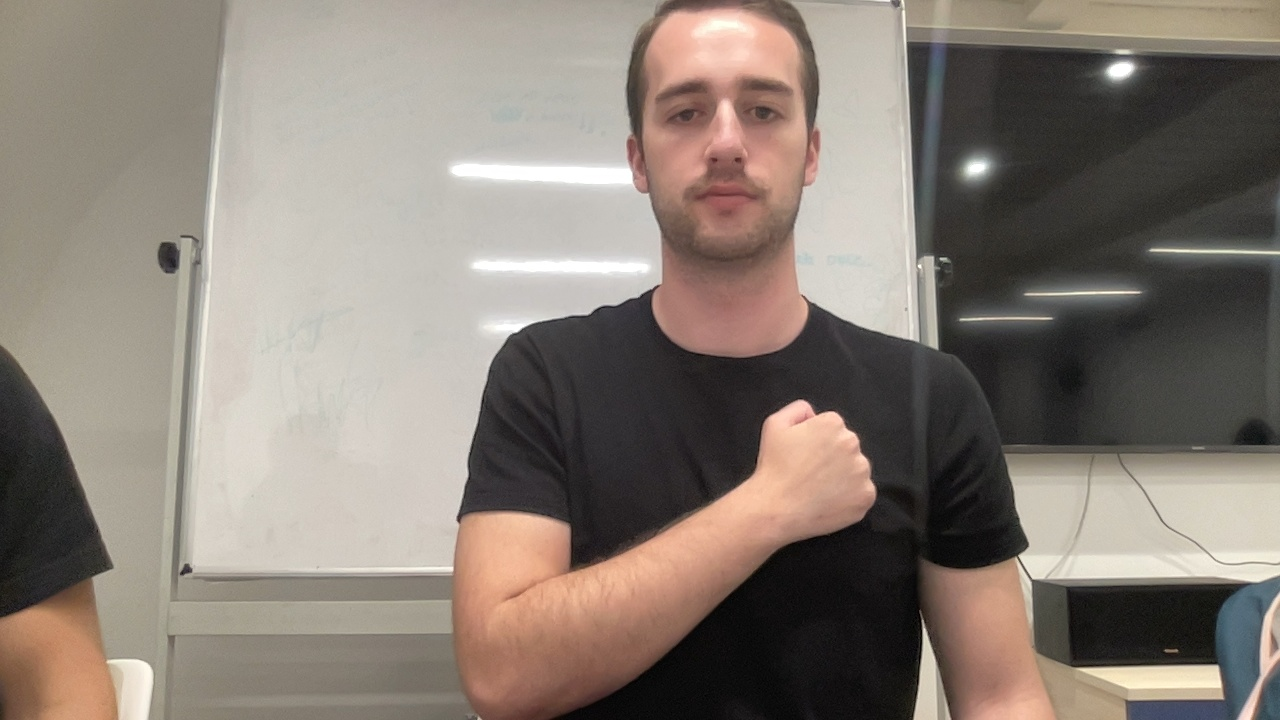Sorry: (449, 395, 881, 720)
